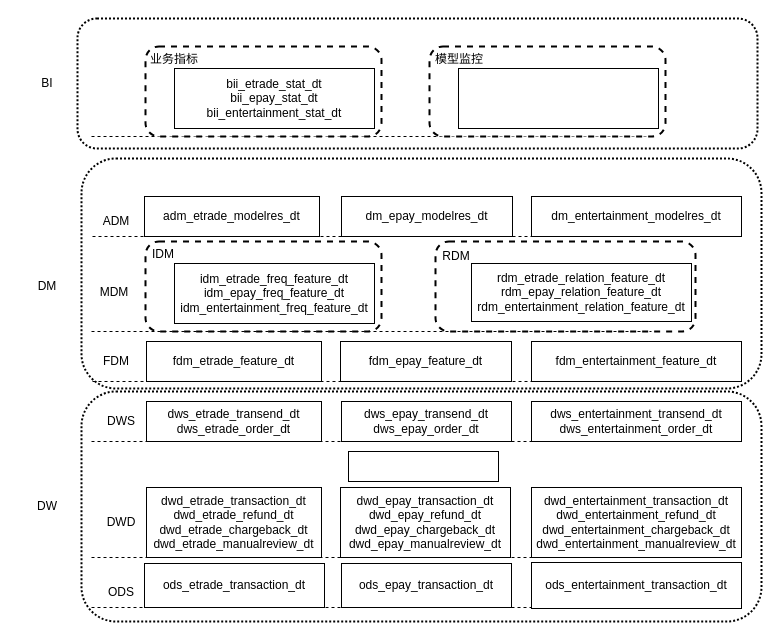
Image size: 779x639. Some labels were removed from this diagram. Here are the shapes that lost their labels. From the top down, the centre of each, then its label:
At point 558,98: "bim_etrade_model_dt bim_epay_model_dt bim_entertainment_model_dt".
At point 423,466: "dwd_offline_chargeback_dt".
